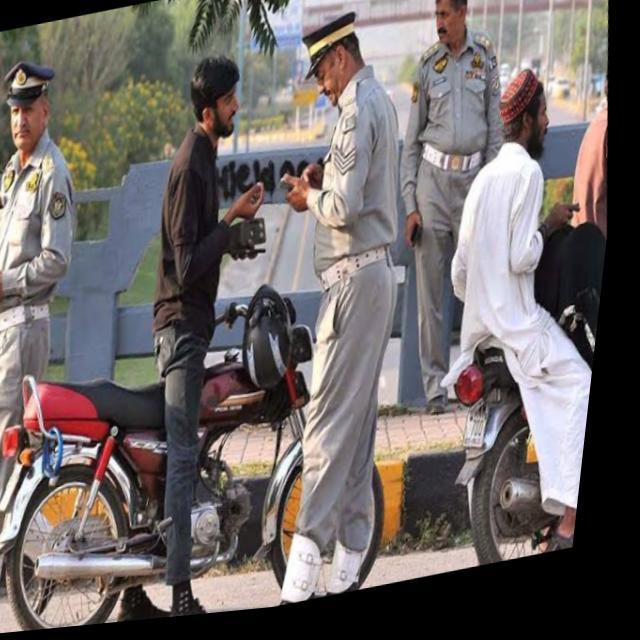Nonhelmet: (179, 44, 245, 142)
